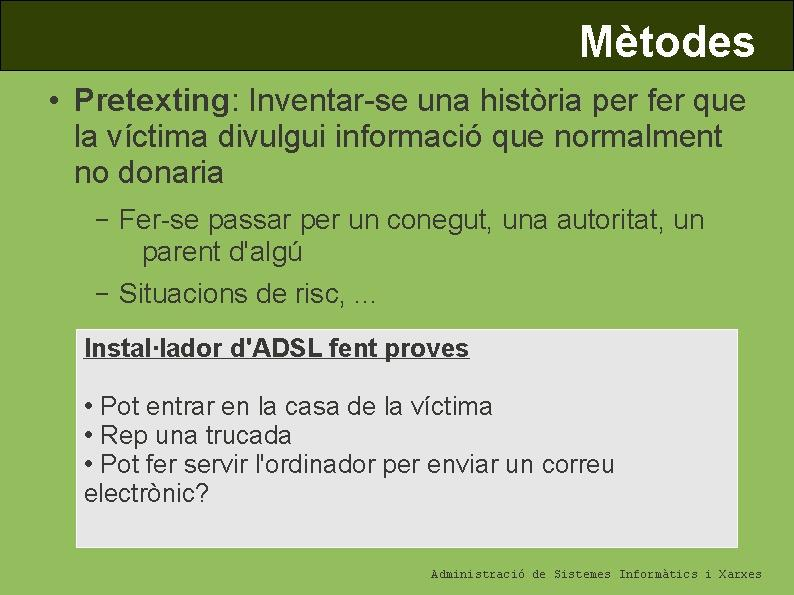paragraph: (38, 79, 756, 559)
title: (571, 12, 760, 69)
